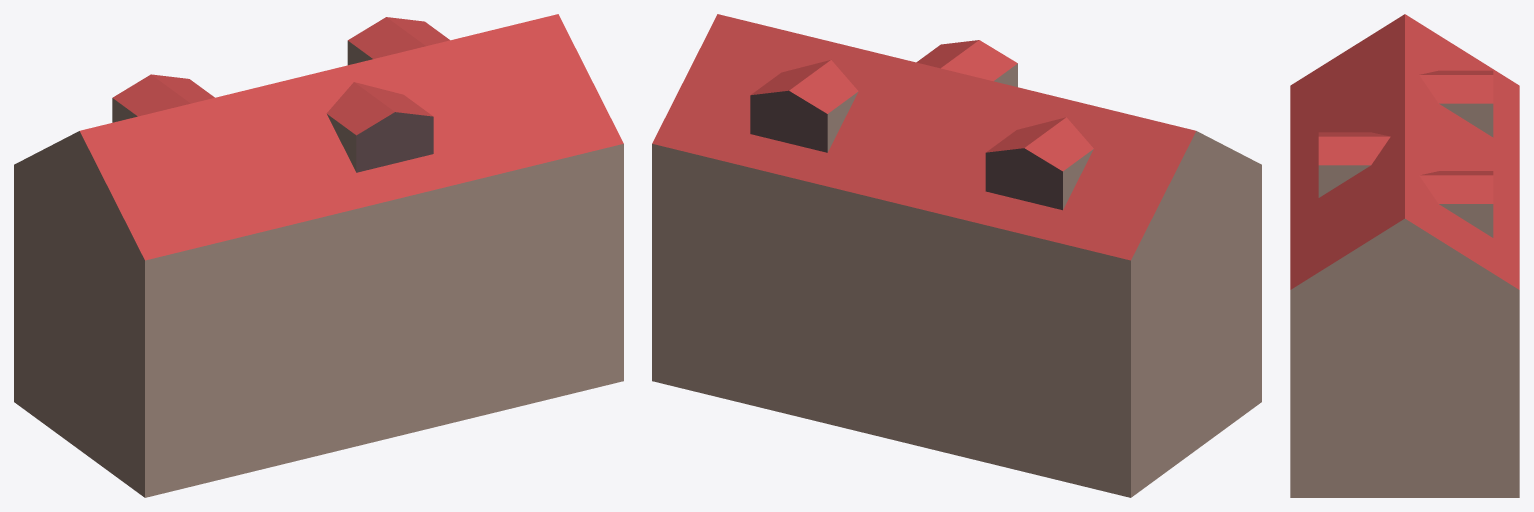
Rendered from house3.fbx.
The picture shows the model from 3 angles, left to right: view 1: azimuth 30°, elevation 25°; view 2: azimuth 150°, elevation 25°; view 3: azimuth 270°, elevation 25°; orthographic projection. The views are drawn at different scales.
Parts seen in each view (by area): view 1: House3; view 2: House3; view 3: House3.
Boxes of the visible parts, left/top/right/bottom form: House3: left=14, top=14, right=623, bottom=497; House3: left=652, top=14, right=1261, bottom=497; House3: left=1290, top=14, right=1519, bottom=497.
Bounding box in the file's own units: 49.51 × 23.46 × 31.54.
